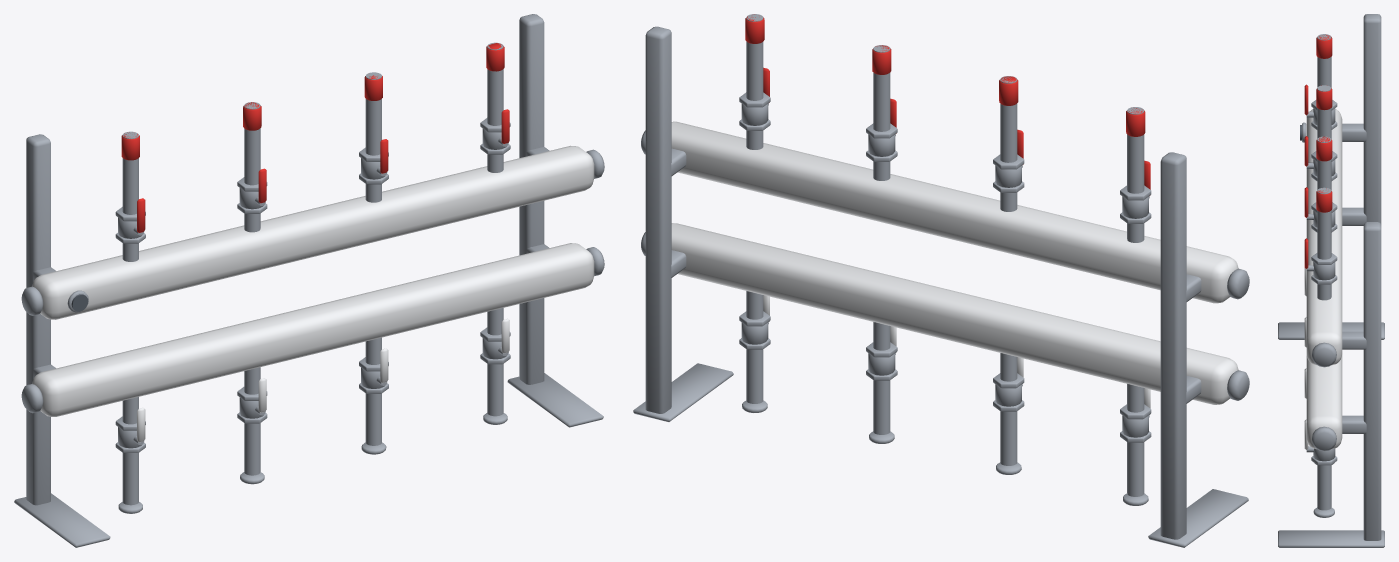
Rendered from heizung.verteiler.n4.glb.
The picture shows the model from 3 angles, left to right: view 1: azimuth 30°, elevation 25°; view 2: azimuth 150°, elevation 25°; view 3: azimuth 270°, elevation 25°; orthographic projection. The views are drawn at different scales.
Parts seen in each view (by area): view 1: heizung.verteiler.n4; view 2: heizung.verteiler.n4; view 3: heizung.verteiler.n4.
Part boxes in pixels (x1,y1,x2,y2): heizung.verteiler.n4: [14, 14, 604, 547]; heizung.verteiler.n4: [633, 14, 1249, 547]; heizung.verteiler.n4: [1278, 14, 1384, 547].
Size of the model in its own units: 1.6 by 1 by 0.3.
